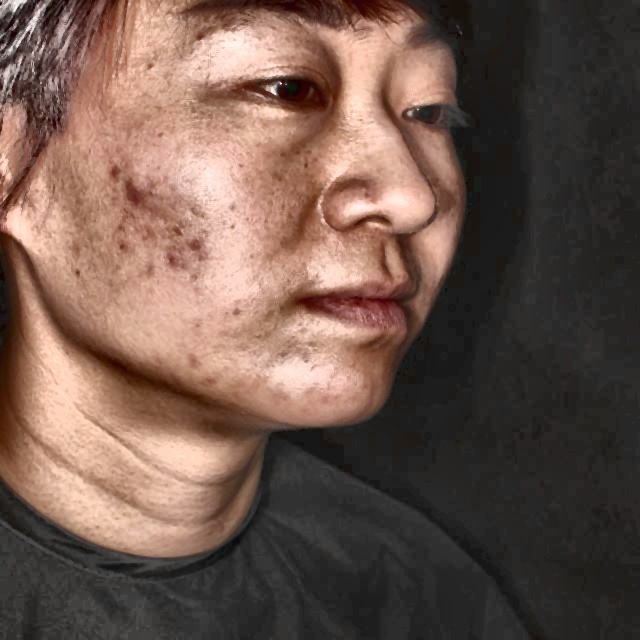comedone: (121, 181, 145, 203), (97, 164, 123, 181), (165, 244, 183, 268)
